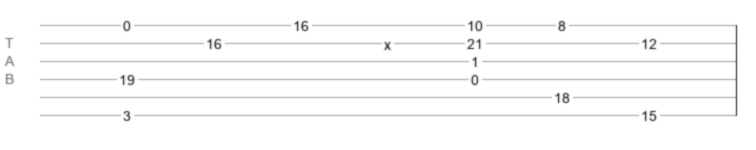0: (123, 18, 131, 28), (471, 72, 479, 82)
1: (471, 54, 479, 64)
10: (467, 18, 483, 28)
12: (641, 36, 657, 46)
15: (641, 108, 657, 118)
16: (206, 36, 222, 46), (293, 18, 309, 28)
18: (554, 90, 570, 100)
19: (119, 72, 135, 82)
21: (467, 36, 483, 46)
3: (123, 108, 131, 118)
8: (558, 18, 566, 28)
x: (384, 37, 391, 45)
